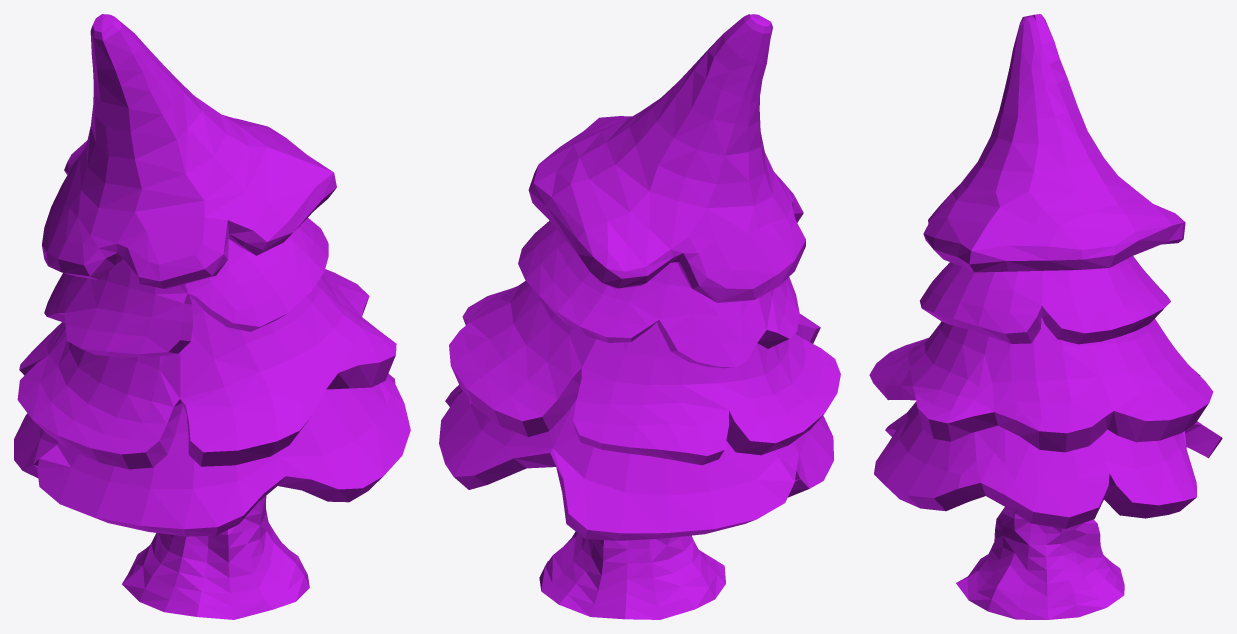
File: meowverse_tree4.glb
3 views of the same model, side by side, from view 1: azimuth 30°, elevation 25°; view 2: azimuth 150°, elevation 25°; view 3: azimuth 270°, elevation 25° (orthographic). The views are drawn at different scales.
Visible parts, largest first — view 1: tree1v3.004; view 2: tree1v3.004; view 3: tree1v3.004.
Boxes of the visible parts, x1,y1,x2,y2 form: tree1v3.004: (14, 14, 410, 619); tree1v3.004: (439, 14, 840, 619); tree1v3.004: (869, 14, 1222, 619).
Size of the model in its own units: 0.4335 by 0.7132 by 0.4355.
